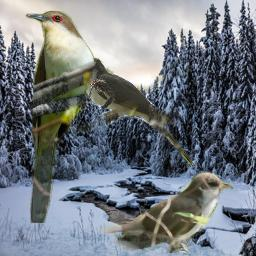Cuckoo: (25, 10, 97, 223), (68, 58, 195, 167), (99, 171, 233, 253)
